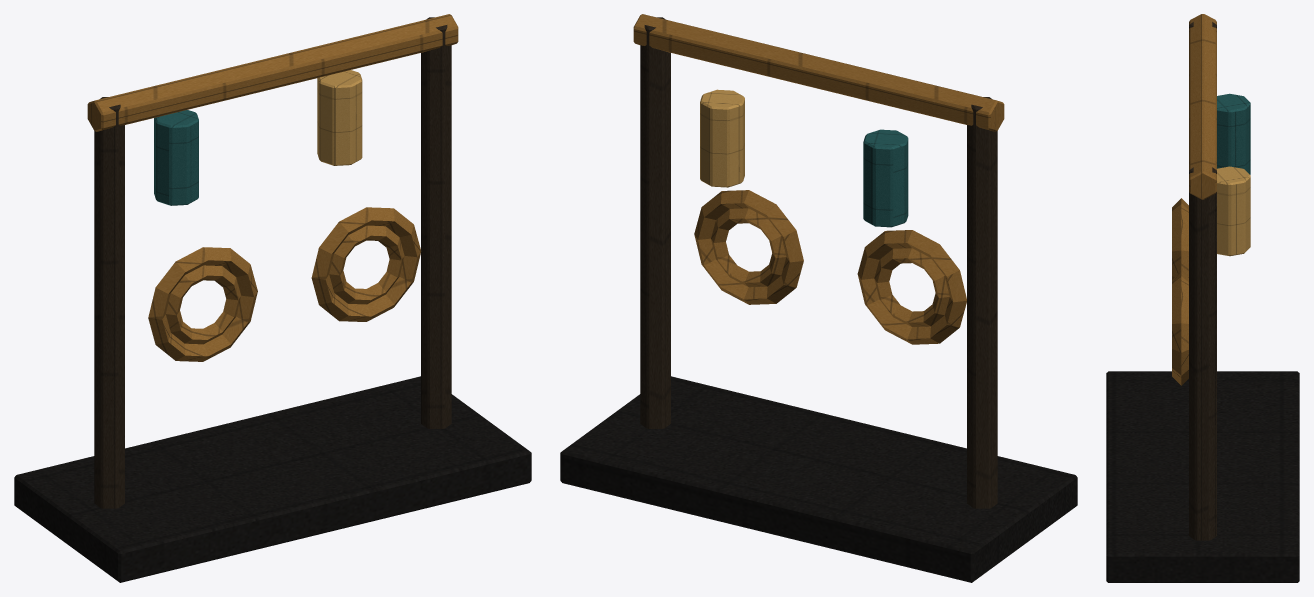
The model's file is rope-buoy-rack.e5.glb.
3 renders of one model, left to right at view 1: azimuth 30°, elevation 25°; view 2: azimuth 150°, elevation 25°; view 3: azimuth 270°, elevation 25°, orthographic. The views are drawn at different scales.
Visible parts, largest first — view 1: RopeBuoyRackE5; view 2: RopeBuoyRackE5; view 3: RopeBuoyRackE5.
Part boxes in pixels (x1=…): RopeBuoyRackE5: x1=14, y1=14, x2=531, y2=582; RopeBuoyRackE5: x1=560, y1=14, x2=1077, y2=582; RopeBuoyRackE5: x1=1106, y1=14, x2=1299, y2=582.
Size of the model in its own units: 1.62 by 1.64 by 0.72.
1 material, 1 textured.
